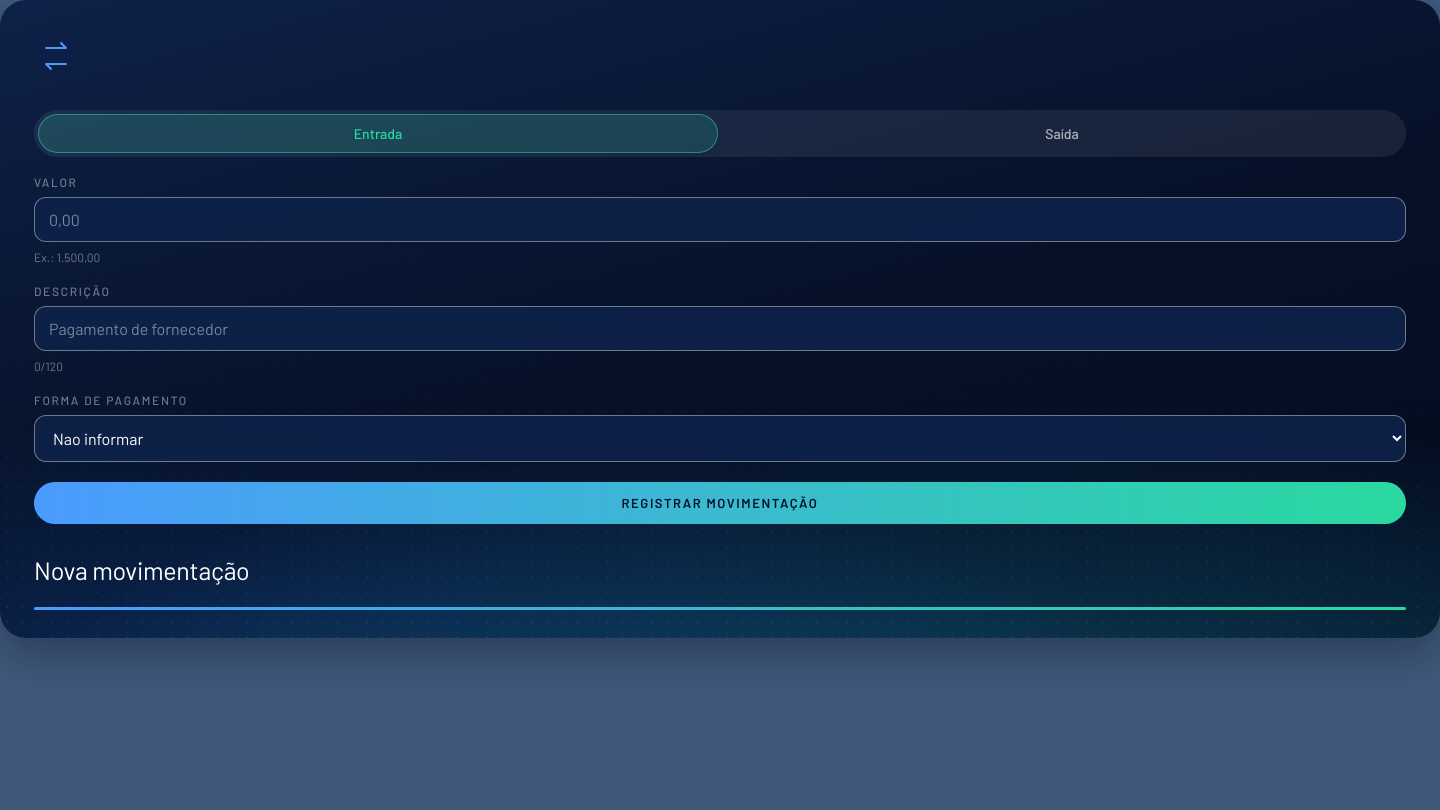
Test: MovimentacaoForm › nao envia quando o valor e zero
In the field with placeholder "0,00": (720, 220) [34,197,1406,242], type "0"
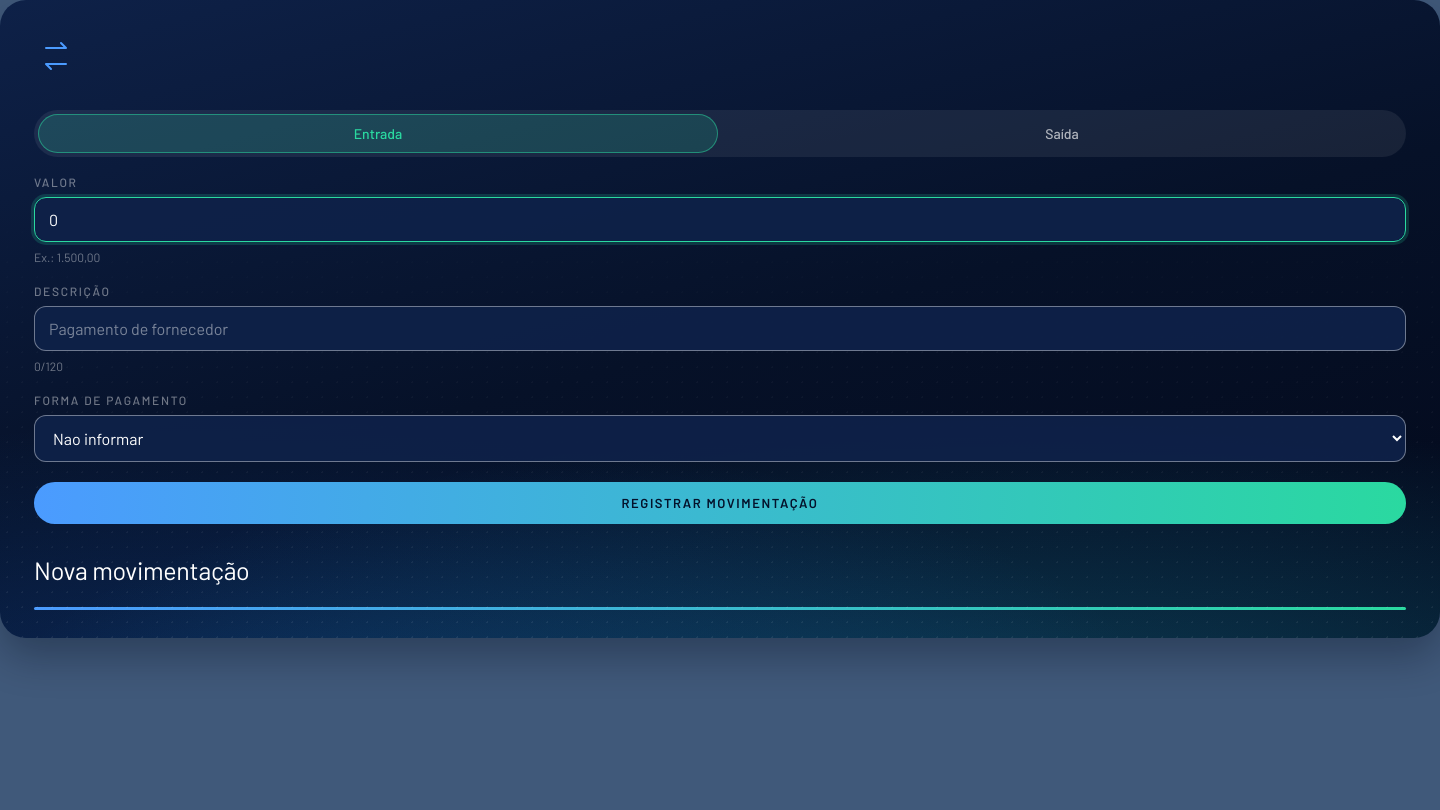
Click the button "Registrar movimentação": (720, 503) [34,482,1406,524]
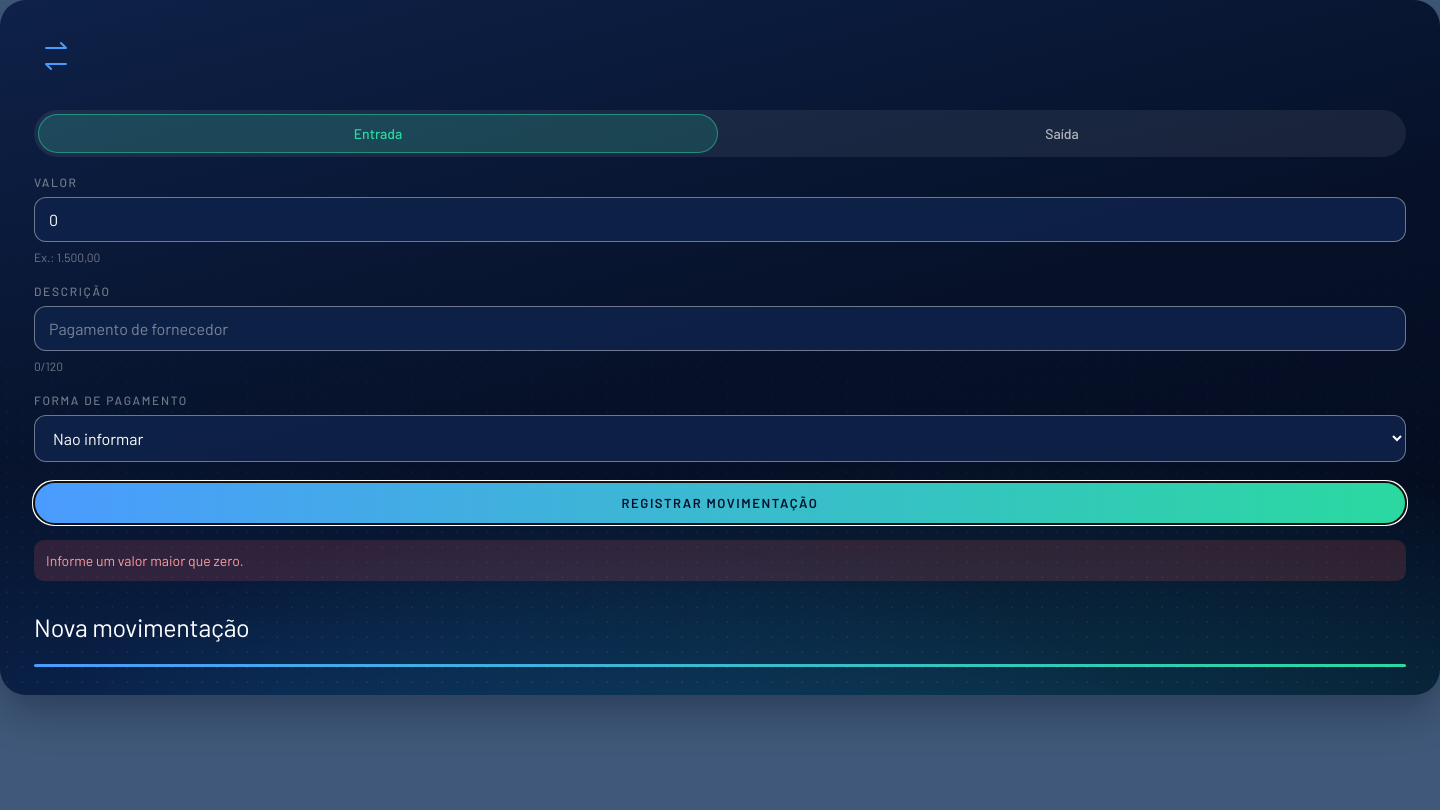
expect the message reads "Informe um valor maior que zero.": met, box [46,552,244,569]
